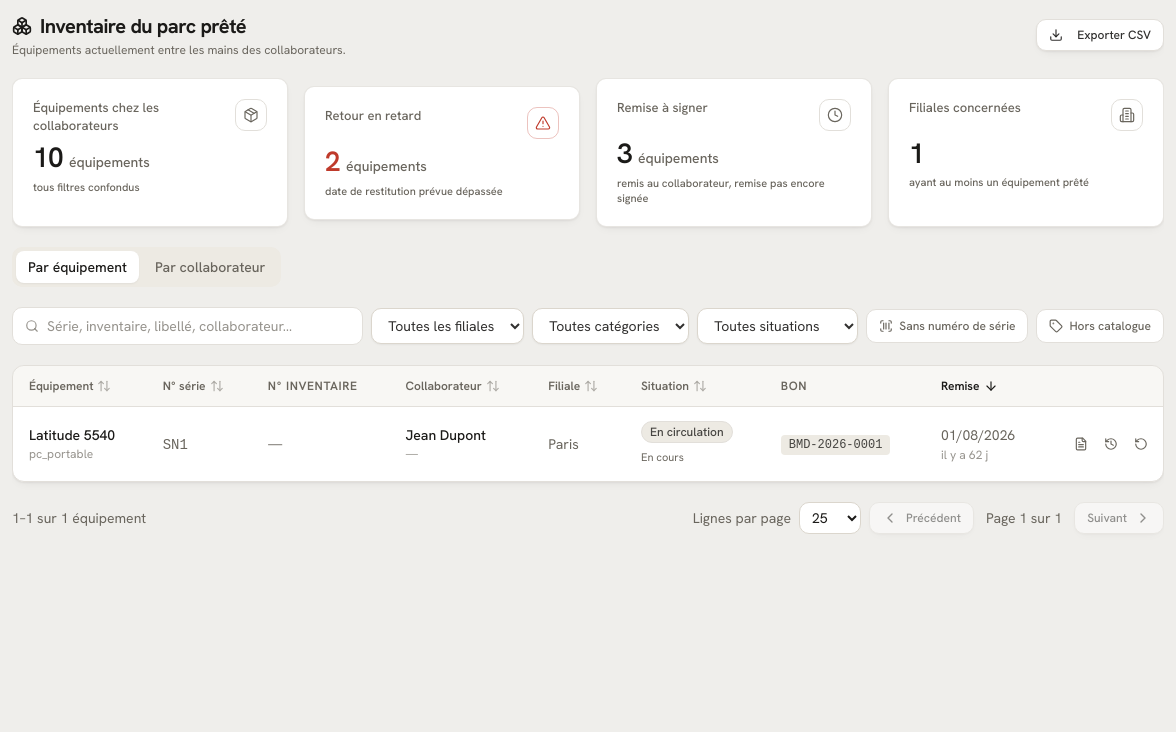
Test: InventairePage › cliquer sur la tuile « Remise à signer » filtre la liste sur cette situation
Check: the text "Jean Dupont" is shown, box [406, 426, 486, 444]
Click the button "Remise à signer": (734, 153) [596, 78, 872, 227]
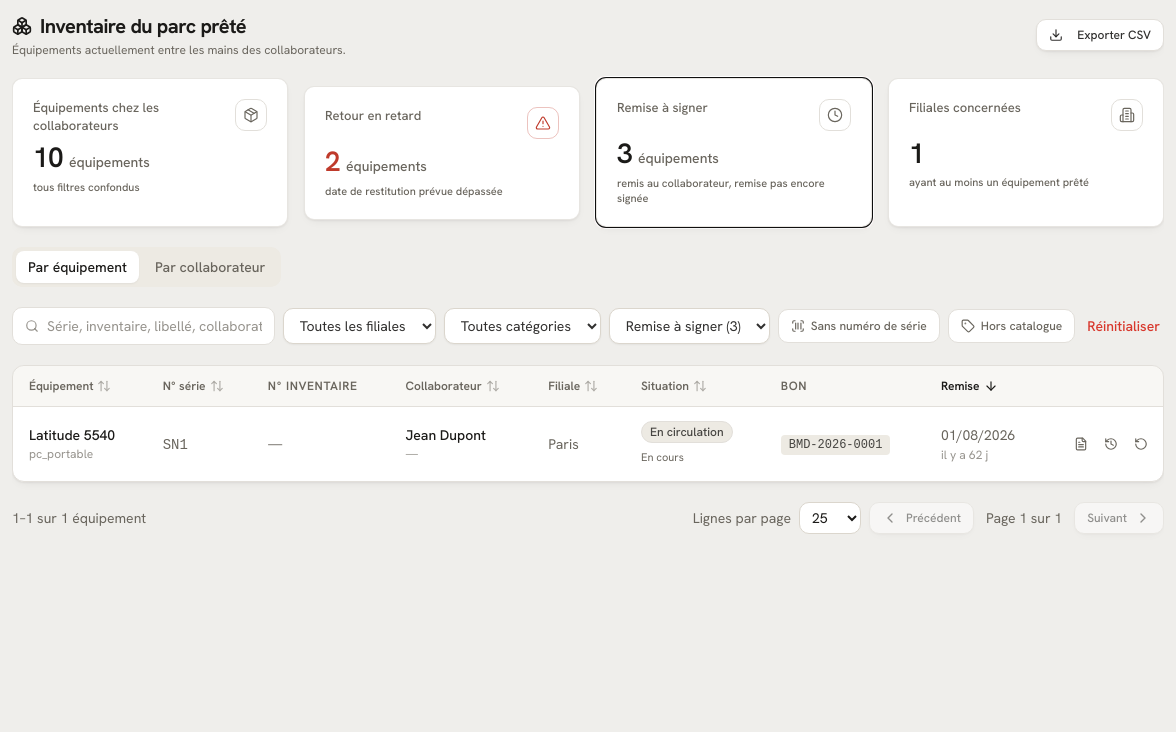
Check: the dropdown named "Filtrer par situation" shows "Remise à signer (3)", box [609, 308, 770, 344]
